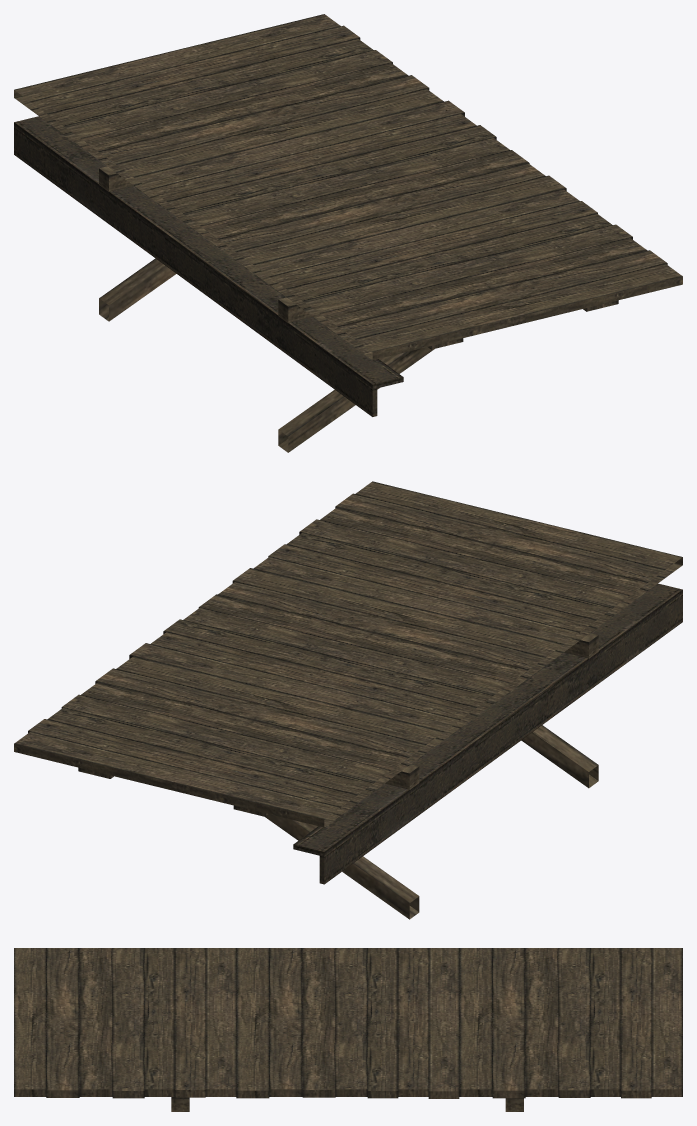
File: platform_ax_1.obj
3 renders of one model, top to bottom at view 1: azimuth 30°, elevation 25°; view 2: azimuth 150°, elevation 25°; view 3: azimuth 270°, elevation 25°, orthographic. The views are drawn at different scales.
Visible parts, largest first — view 1: platform_ax_1; view 2: platform_ax_1; view 3: platform_ax_1.
Part boxes in pixels (x1=…): platform_ax_1: x1=14, y1=14, x2=682, y2=452; platform_ax_1: x1=14, y1=481, x2=682, y2=919; platform_ax_1: x1=14, y1=948, x2=682, y2=1111.
Size of the model in its own units: 2.03 by 1 by 4.
